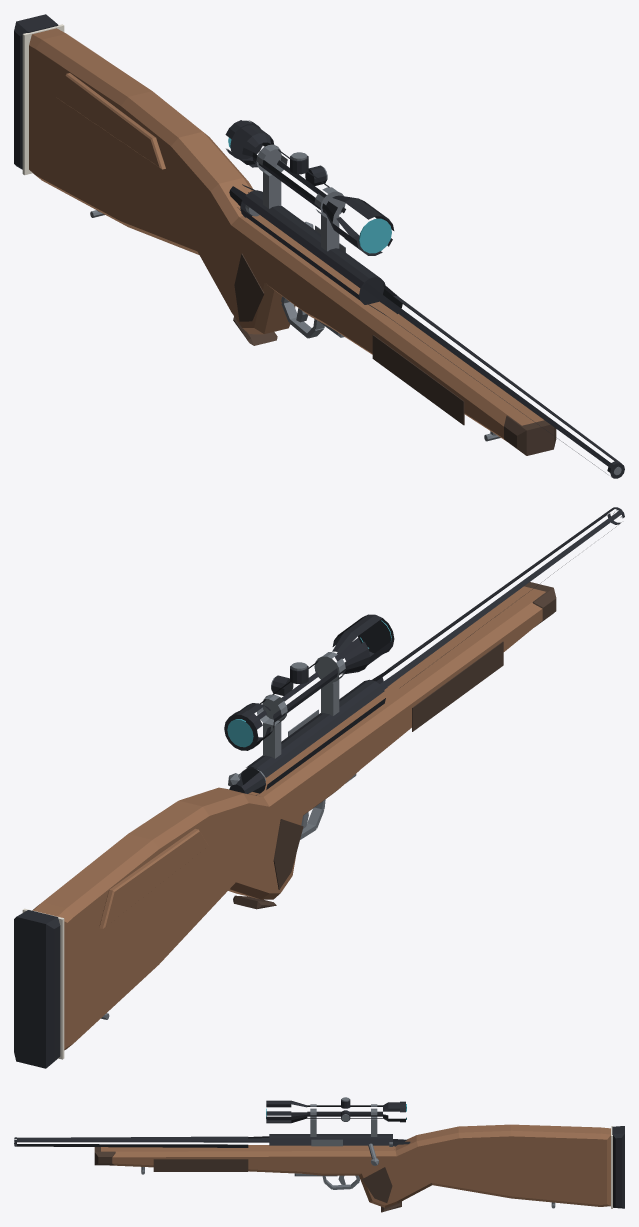
Rendered from hunting_rifle.glb.
3 renders of one model, top to bottom at view 1: azimuth 30°, elevation 25°; view 2: azimuth 150°, elevation 25°; view 3: azimuth 270°, elevation 25°, orthographic. The views are drawn at different scales.
Visible parts, largest first — view 1: hunting_rifle_mesh; view 2: hunting_rifle_mesh; view 3: hunting_rifle_mesh.
Part boxes in pixels (<box>): hunting_rifle_mesh: <box>14,14,624,478</box>; hunting_rifle_mesh: <box>14,507,624,1068</box>; hunting_rifle_mesh: <box>14,1097,624,1212</box>.
Bounding box in the file's own units: 0.076 × 0.232 × 1.16.
Materials: 1 (1 with a texture image).
